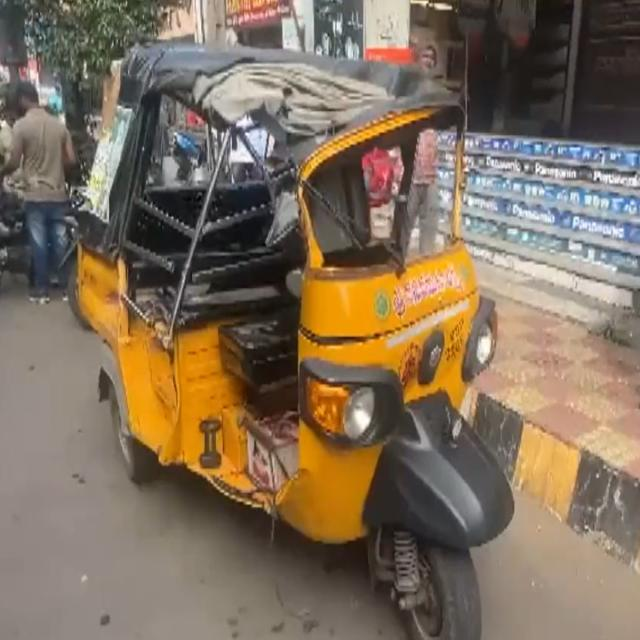accident: (68, 45, 512, 638)
